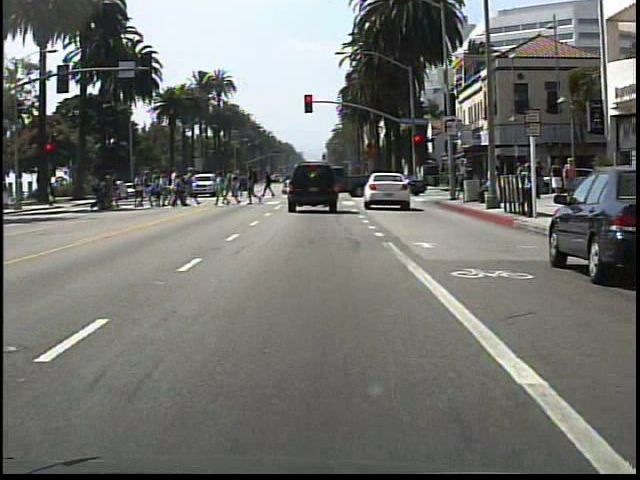person: (514, 160, 533, 219), (563, 155, 581, 202), (547, 154, 565, 198)
